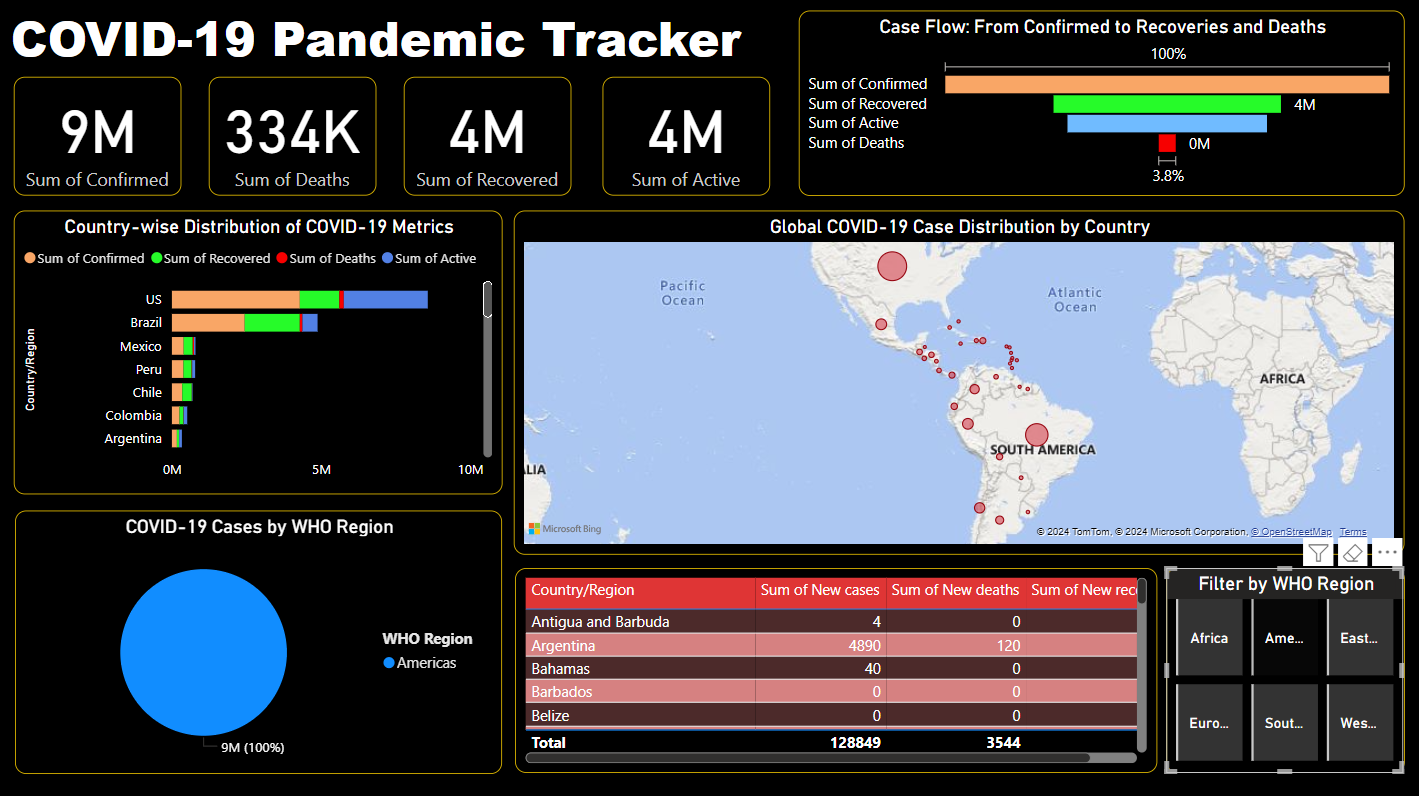

The dashboard page shown, as its layout file describes it:
{"tool":"powerbi","page":{"name":"Page 1","canvas":[1280,720],"ordinal":0},"visuals":[{"type":"textbox","box":[0,0,677.4,70.9],"z":0},{"type":"card","fields":{"Values":["Sum(country_wise_latest.Confirmed)"]},"box":[12.5,71.1,150.8,107.2],"z":1000},{"type":"card","fields":{"Values":["Sum(country_wise_latest.Deaths)"]},"box":[188.2,71.1,150.8,107.2],"z":2000},{"type":"card","fields":{"Values":["Sum(country_wise_latest.Recovered)"]},"box":[364,71.1,150.8,107.2],"z":3000},{"type":"card","fields":{"Values":["Sum(country_wise_latest.Active)"]},"box":[543.5,71.1,150.8,107.2],"z":4000},{"type":"map","title":"Global COVID-19 Case Distribution by Country","fields":{"Category":["country_wise_latest.Country/Region"],"Size":["Sum(country_wise_latest.Confirmed)"]},"box":[463.5,192,803.4,310.6],"z":5000},{"type":"barChart","title":"Country-wise Distribution of COVID-19 Metrics","fields":{"Category":["country_wise_latest.Country/Region"],"Y":["Sum(country_wise_latest.Confirmed)","Sum(country_wise_latest.Recovered)","Sum(country_wise_latest.Deaths)","Sum(country_wise_latest.Active)"]},"box":[12.8,191.9,440.7,255.8],"z":6000},{"type":"pieChart","title":"COVID-19 Cases by WHO Region","fields":{"Category":["country_wise_latest.WHO Region"],"Y":["Sum(country_wise_latest.Confirmed)"]},"box":[14,461.6,439.5,237.2],"z":7000},{"type":"tableEx","fields":{"Values":["country_wise_latest.Country/Region","Sum(country_wise_latest.New cases)","Sum(country_wise_latest.New deaths)","Sum(country_wise_latest.New recovered)"]},"box":[464,514,579.1,184.9],"z":8000},{"type":"funnel","title":"Case Flow: From Confirmed to Recoveries and Deaths","fields":{"Y":["Sum(country_wise_latest.Confirmed)","Sum(country_wise_latest.Recovered)","Sum(country_wise_latest.Active)","Sum(country_wise_latest.Deaths)"]},"box":[720.2,11,546.6,167.5],"z":9000},{"type":"advancedSlicerVisual","title":"Filter by WHO Region","fields":{"Values":["country_wise_latest.WHO Region"]},"box":[1051.2,514,215.1,184.9],"z":10000}]}

Visuals, with their boxes in screenshot pixels (x1, y1, x2, y2), scaled from the page's 1280x720 canvas onto the 1419x796 screenshot:
textbox: bbox=(0, 0, 751, 78)
card - Sum(country_wise_latest.Confirmed): bbox=(14, 79, 181, 197)
card - Sum(country_wise_latest.Deaths): bbox=(209, 79, 376, 197)
card - Sum(country_wise_latest.Recovered): bbox=(404, 79, 571, 197)
card - Sum(country_wise_latest.Active): bbox=(603, 79, 770, 197)
"Global COVID-19 Case Distribution by Country" map: bbox=(514, 212, 1404, 556)
"Country-wise Distribution of COVID-19 Metrics" barChart: bbox=(14, 212, 503, 495)
"COVID-19 Cases by WHO Region" pieChart: bbox=(16, 510, 503, 773)
tableEx - country_wise_latest.Country/Region x Sum(country_wise_latest.New cases): bbox=(514, 568, 1156, 773)
"Case Flow: From Confirmed to Recoveries and Deaths" funnel: bbox=(798, 12, 1404, 197)
"Filter by WHO Region" advancedSlicerVisual: bbox=(1165, 568, 1404, 773)
